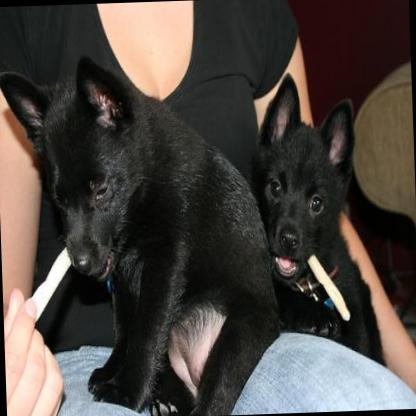schipperke: (0, 39, 285, 416), (244, 68, 383, 371)
